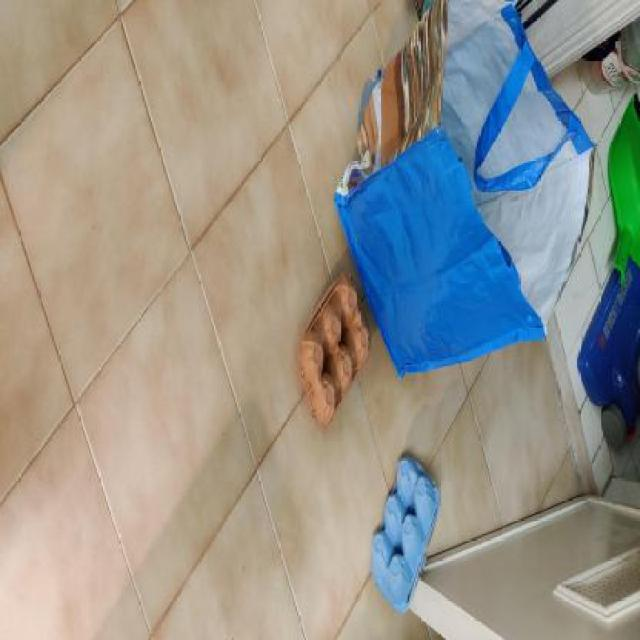cardboard: (297, 273, 371, 427), (371, 454, 440, 614)
